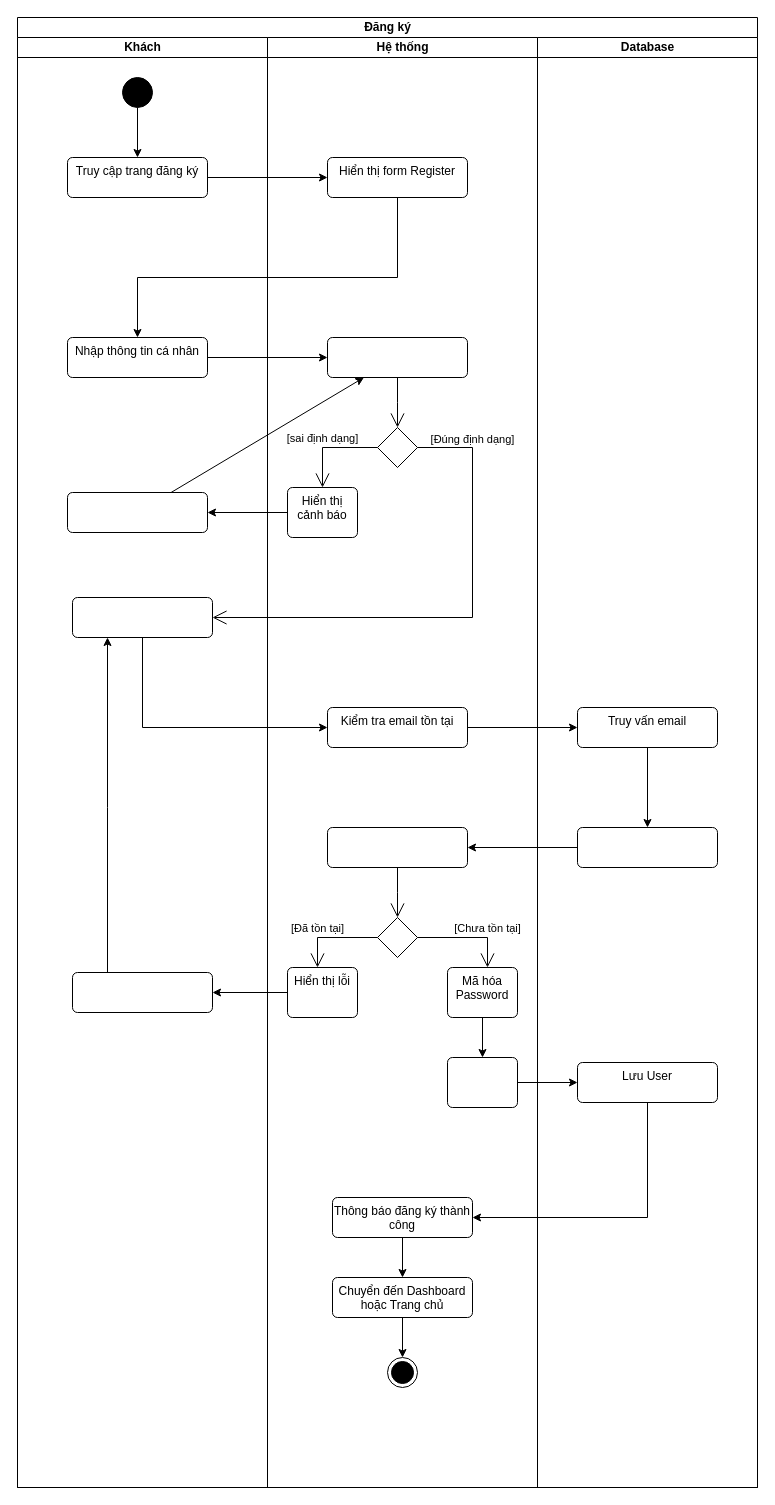
Some shapes in this 775 by 1505 pixel diagram are drawn without their labels. The shapes that lost their labels are listed below. From the top down, each one's centre as x and y in pixels, then its label:
At point 397,357: "Kiểm tra dữ liệu đầu vào".
At point 137,512: "Nhập lại thông tin bị sai!".
At point 142,617: "Nhấn đăng ký".
At point 397,847: "So sánh email".
At point 647,847: "Trả kết quả".
At point 142,992: "Nhập email khác!".
At point 482,1082: "Tạo tài khoản mới".
